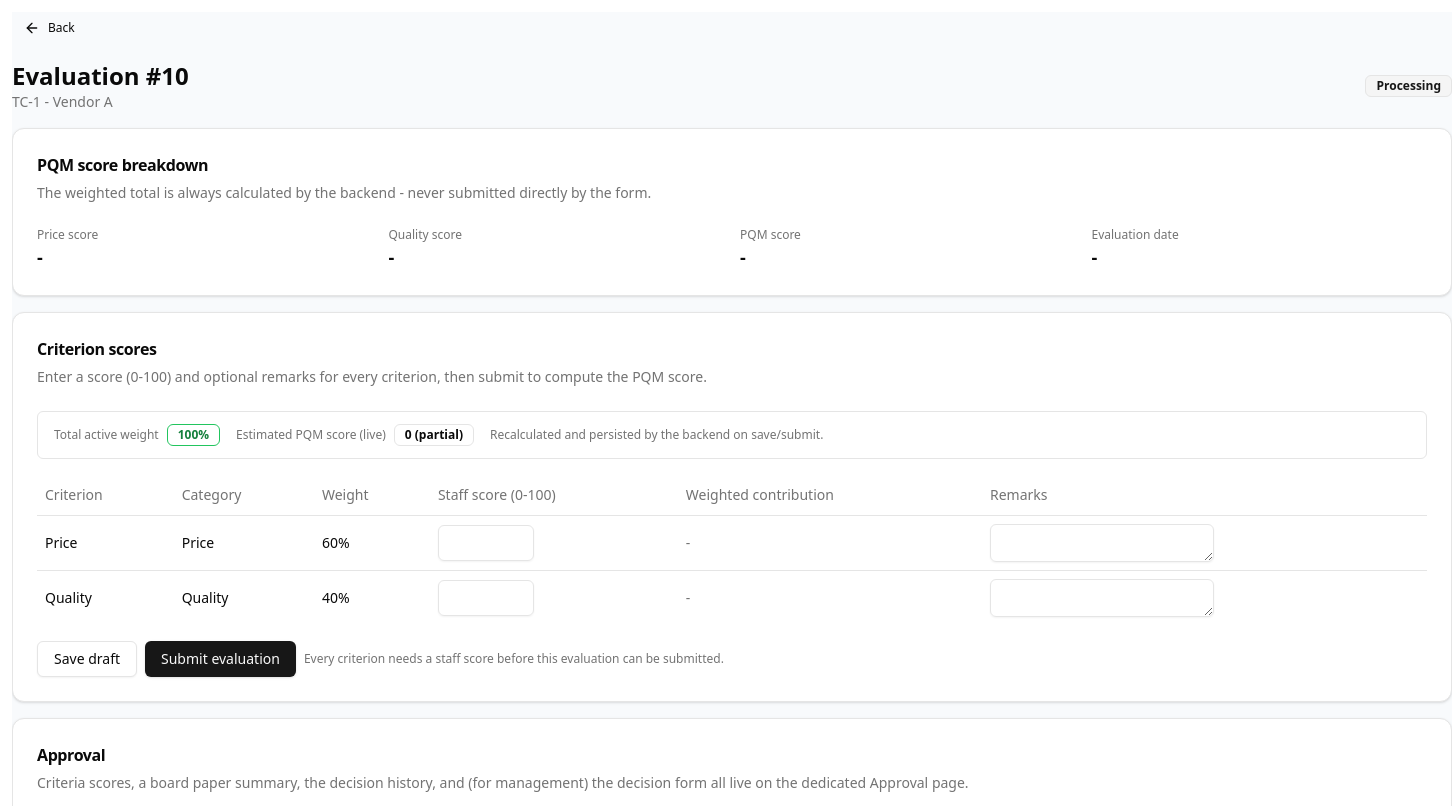
Test: EvaluationDetailPage (Jerrold - Scope B) › saves a draft without requiring every criterion to be scored
The width and height of the screenshot is (1452, 806).
Type "80" into the number field next to "60" at (486, 542), box [438,524,534,560]
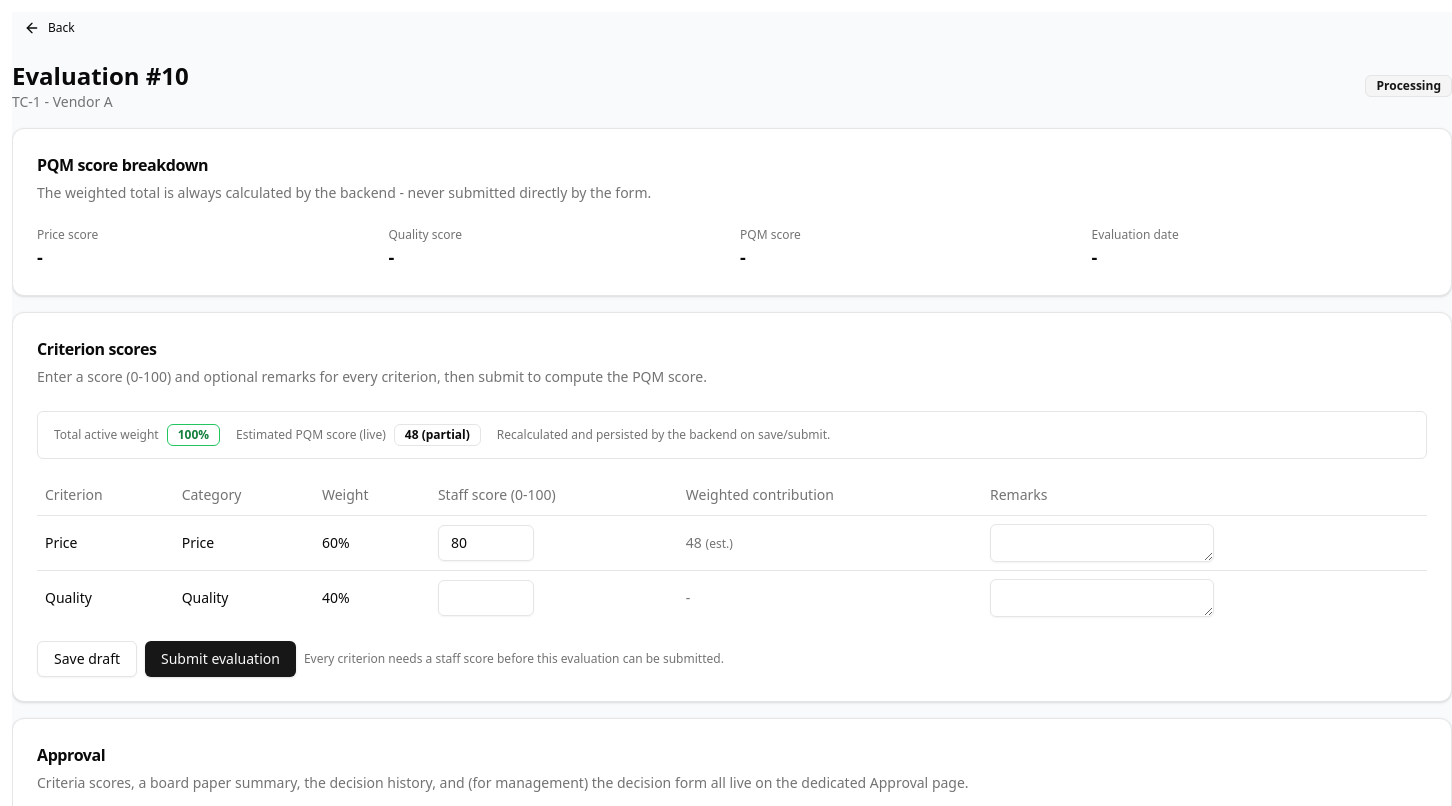
Click the button "Save draft" at (87, 658), box [37,640,137,676]
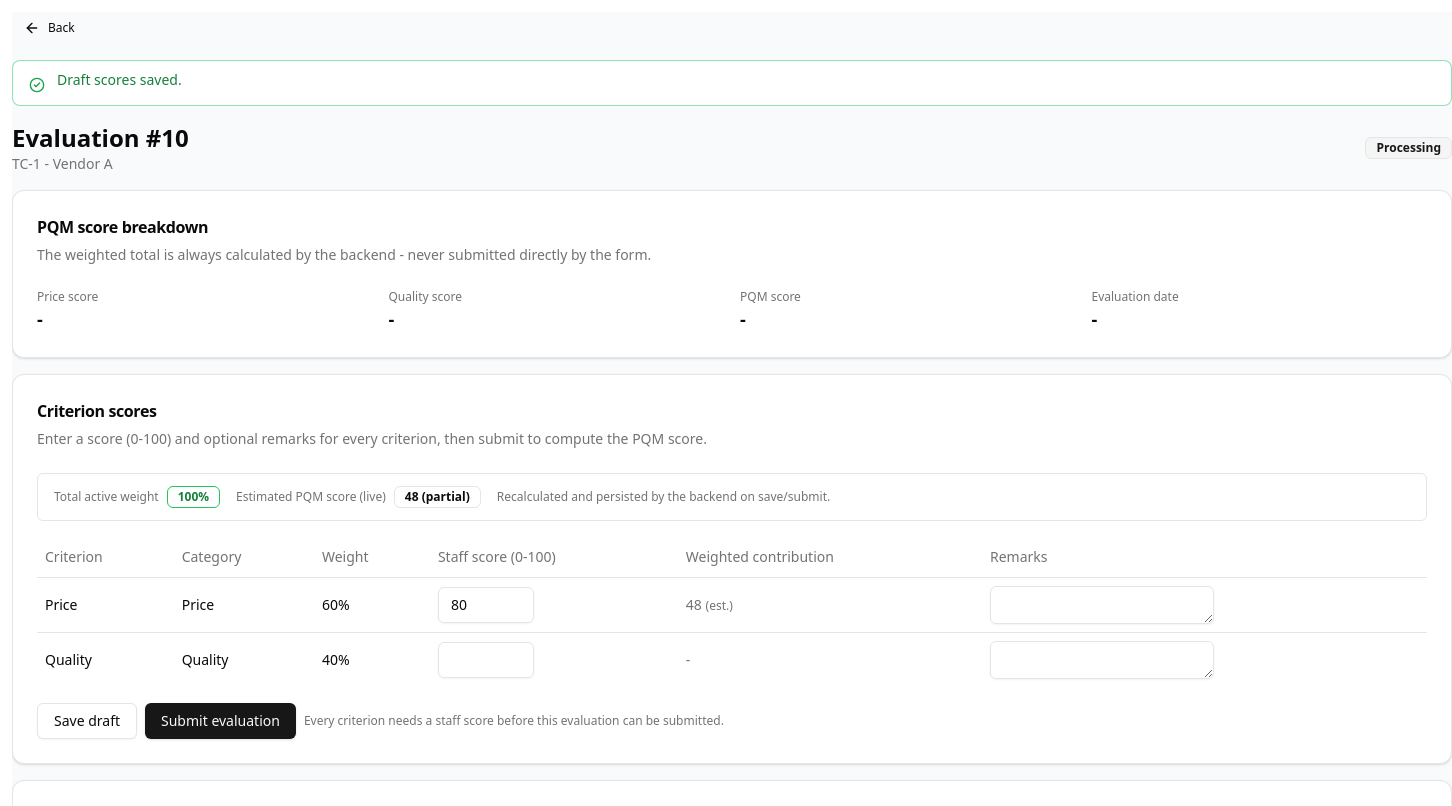
Check: the text "Draft scores saved." is shown, box [57,70,182,89]
